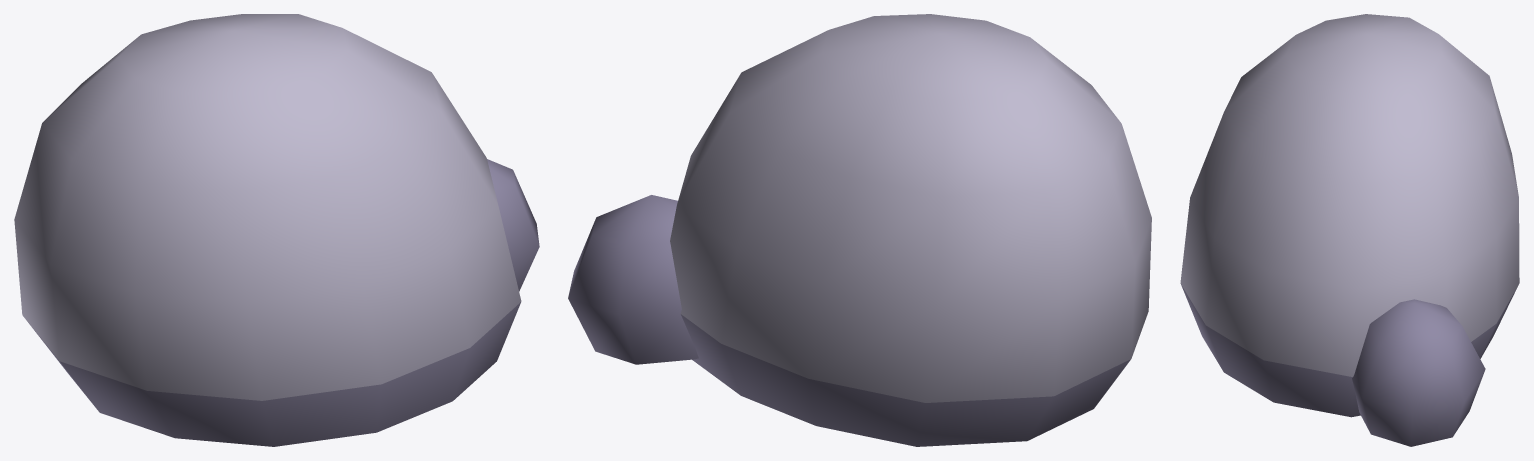
Rendered from rock.fbx.
The picture shows the model from 3 angles, left to right: view 1: azimuth 30°, elevation 25°; view 2: azimuth 150°, elevation 25°; view 3: azimuth 270°, elevation 25°; orthographic projection. The views are drawn at different scales.
Parts seen in each view (by area): view 1: rock; view 2: rock; view 3: rock.
Part boxes in pixels (<box>): rock: <box>14,14,539,446</box>; rock: <box>568,14,1151,446</box>; rock: <box>1180,14,1519,446</box>.
Bounding box in the file's own units: 1.18 × 0.7516 × 0.8024.
